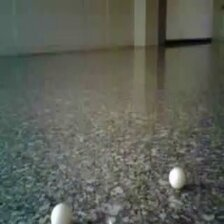w: (50, 202, 70, 224), (169, 167, 184, 188)
